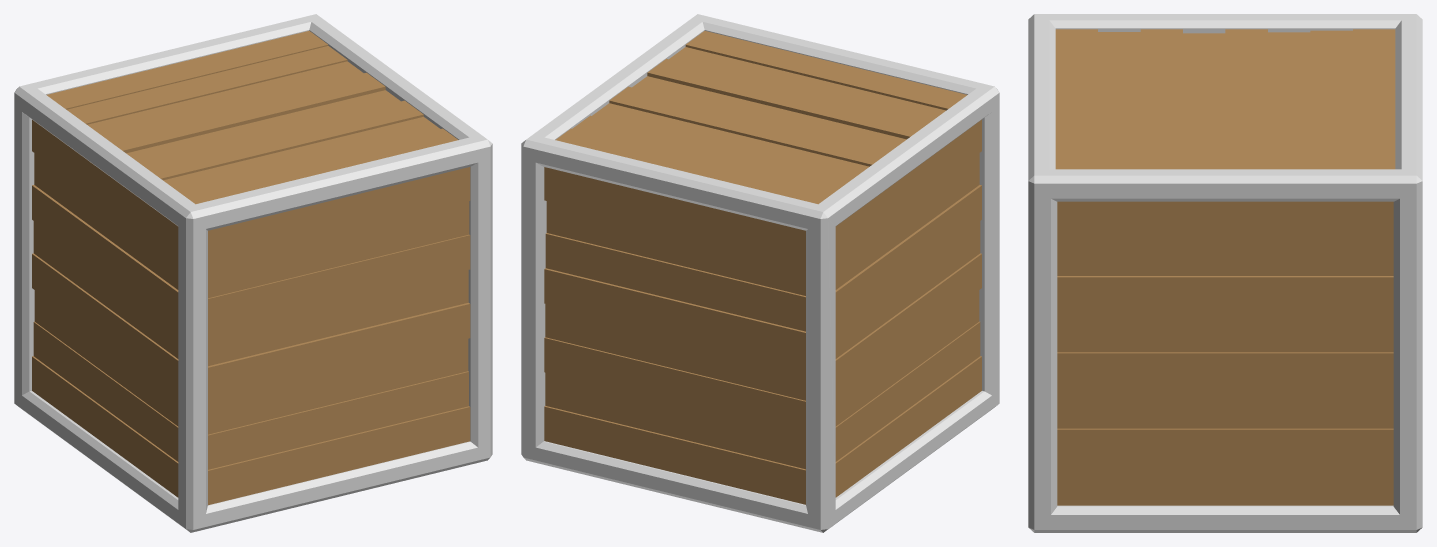
The model's file is Game Modele_Kiste.fbx.
The picture shows the model from 3 angles, left to right: view 1: azimuth 30°, elevation 25°; view 2: azimuth 150°, elevation 25°; view 3: azimuth 270°, elevation 25°; orthographic projection. The views are drawn at different scales.
Parts seen in each view (by area): view 1: Kiste; view 2: Kiste; view 3: Kiste.
Boxes of the visible parts, bbox=[...] form: Kiste: bbox=[14, 14, 492, 532]; Kiste: bbox=[521, 14, 999, 532]; Kiste: bbox=[1028, 14, 1422, 532].
Bounding box in the file's own units: 37.47 × 37.47 × 37.47.
